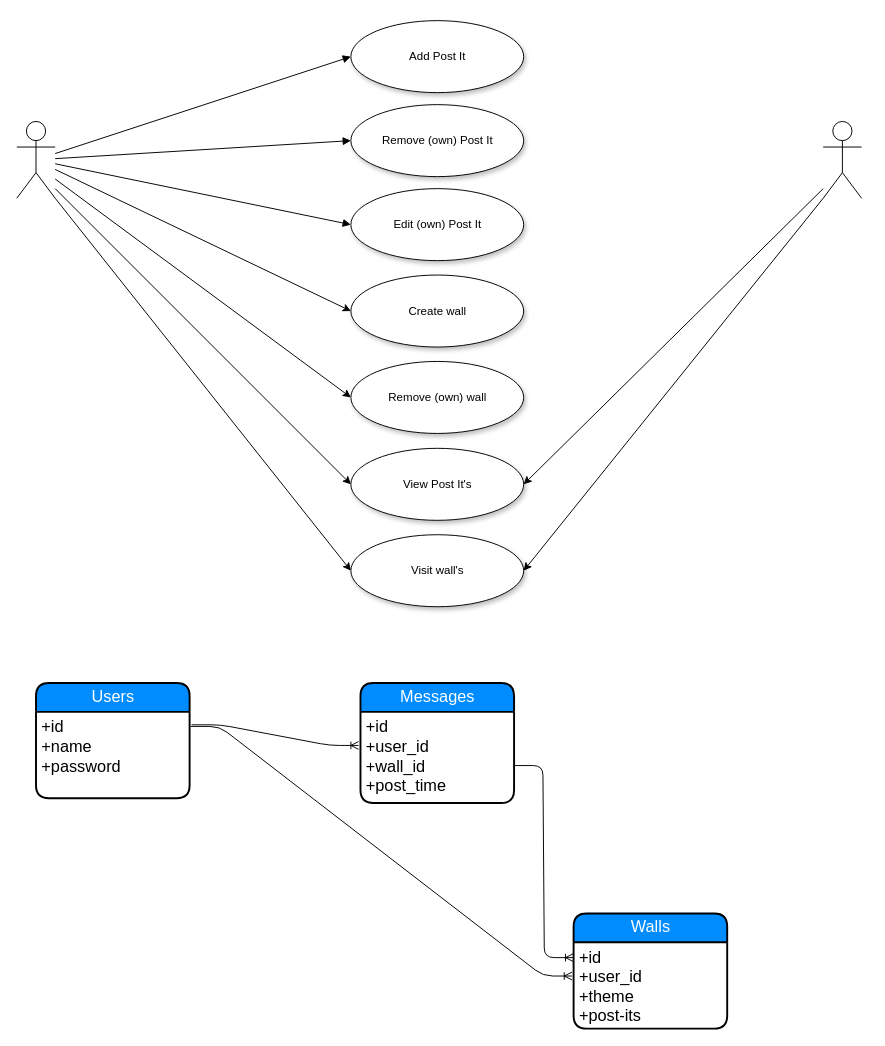
Image size: 885x1046. Some labels were removed from this diagram. Each missing label, with the centre of its shape:
"User" goes at (x=35, y=159).
"Visitor" goes at (x=842, y=159).
